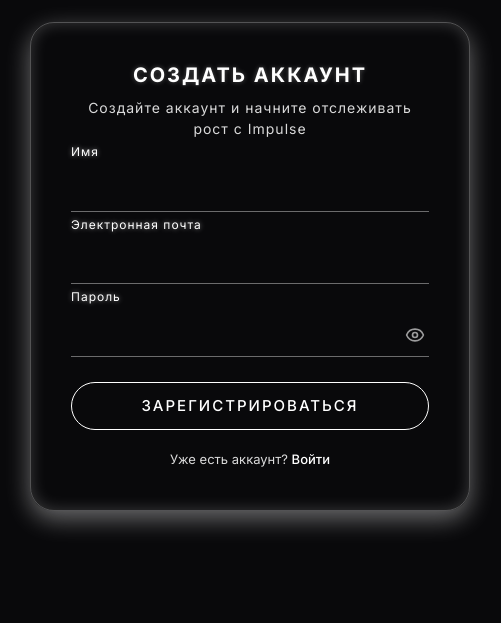
Test case: SignUp › shows "account already registered" error on 409
Type "Ivan" into the field labelled "Имя".
click(250, 188); type("Ivan")  # box [71,164,429,212]
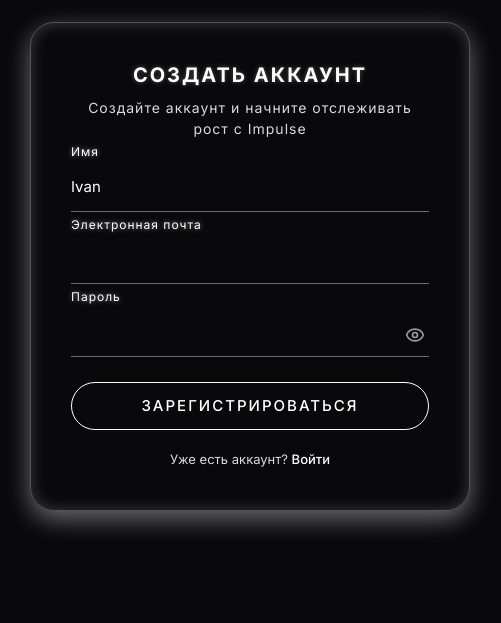
Type "user@example.com" into the field labelled "Электронная почта".
click(250, 260); type("user@example.com")  # box [71,236,429,284]
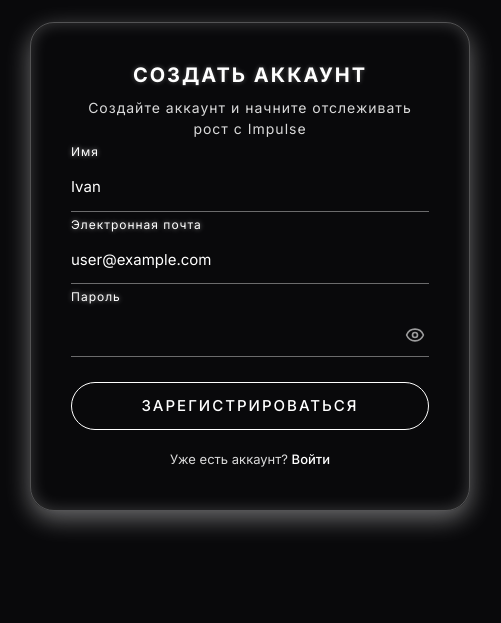
Type "password123" into the password field labelled "Пароль".
click(250, 333); type("password123")  # box [71,309,429,356]
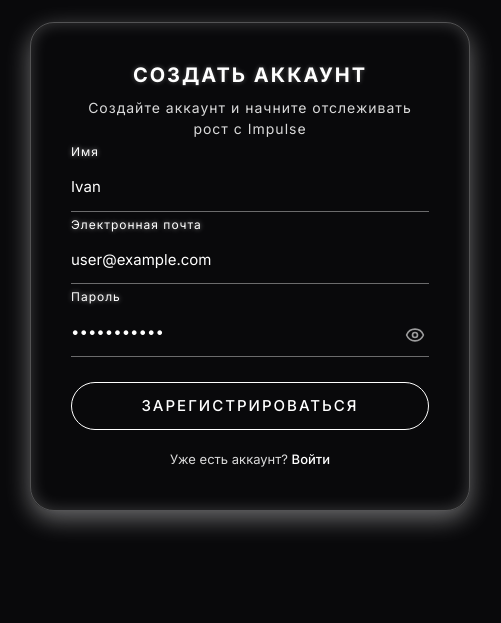
Submit the form labelled "Электронная почта", box [71,164,429,430]
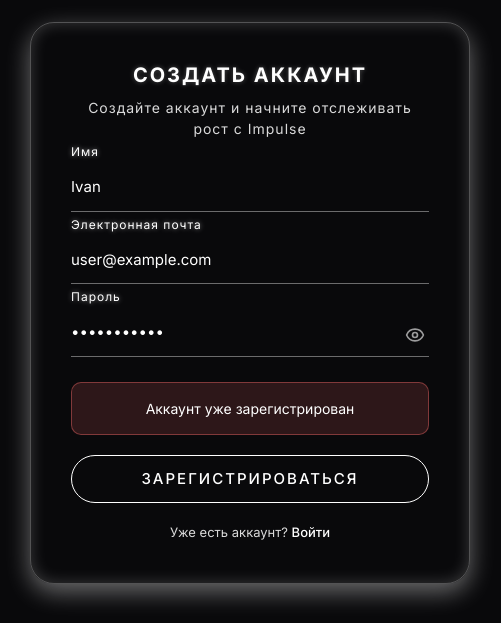
Now the text "Аккаунт уже зарегистрирован" is shown, box [71,382,429,434]
